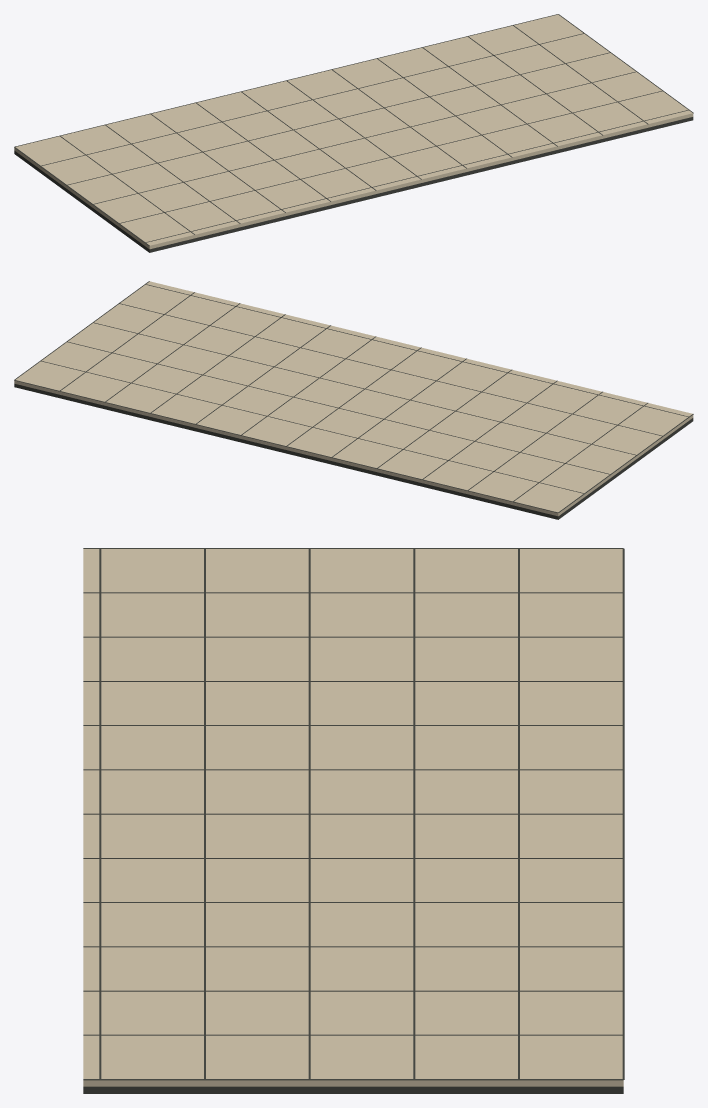
File: deck_slab.glb
The picture shows the model from 3 angles, top to bottom: view 1: azimuth 30°, elevation 25°; view 2: azimuth 150°, elevation 25°; view 3: azimuth 270°, elevation 25°; orthographic projection. The views are drawn at different scales.
Visible parts, largest first — view 1: deck_slab; view 2: deck_slab; view 3: deck_slab.
Boxes of the visible parts, left/top/right/bottom form: deck_slab: left=14, top=14, right=693, bottom=252; deck_slab: left=14, top=281, right=693, bottom=519; deck_slab: left=83, top=548, right=624, bottom=1093.
Bounding box in the file's own units: 96.16 × 1.21 × 41.4.
